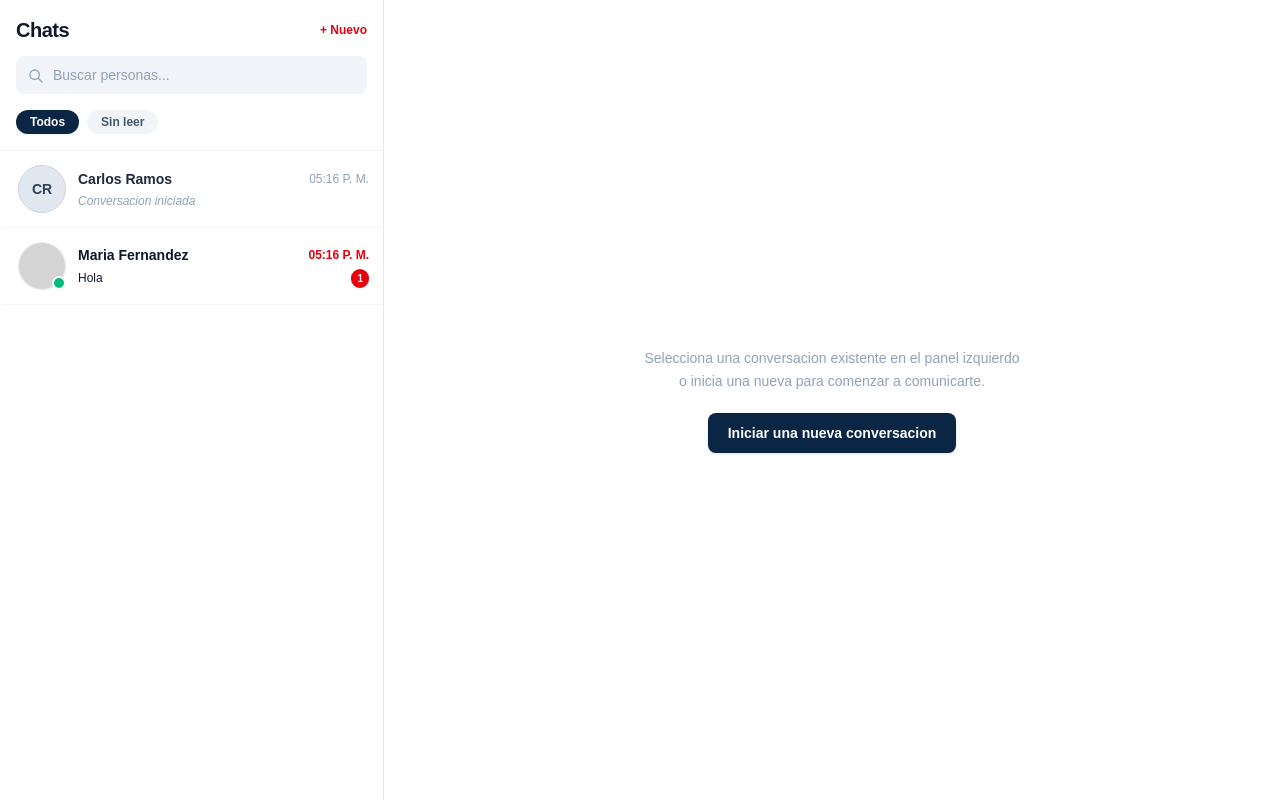
it: ChatView & ChatPage › debe conmutar de unread a all y abrir modal al pulsar nueva conversacion
Expected: the heading "Maria Fernandez" is shown, [78,244,188,264]
Click the button "Sin leer".
click(123, 122)  # box [87,110,158,134]
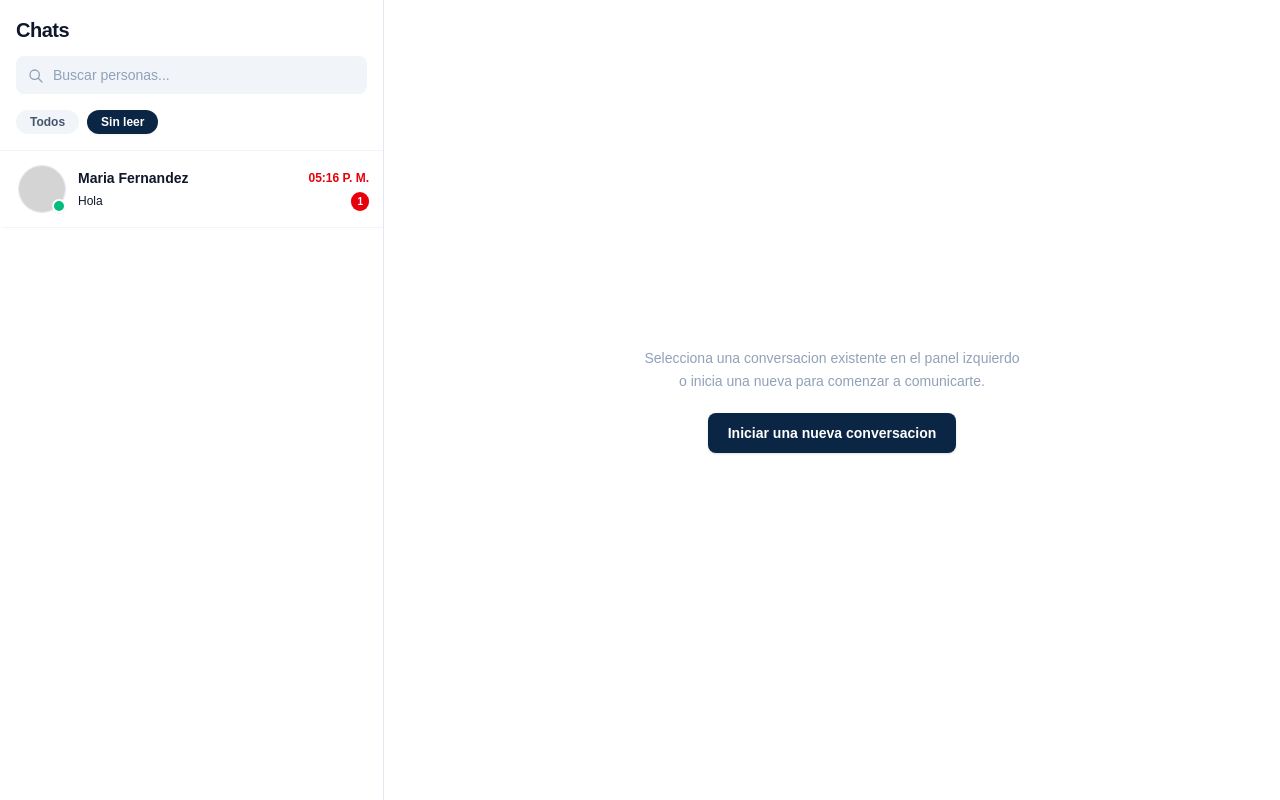
Click the button "Iniciar una nueva conversacion".
click(832, 433)  # box [708,413,956,453]
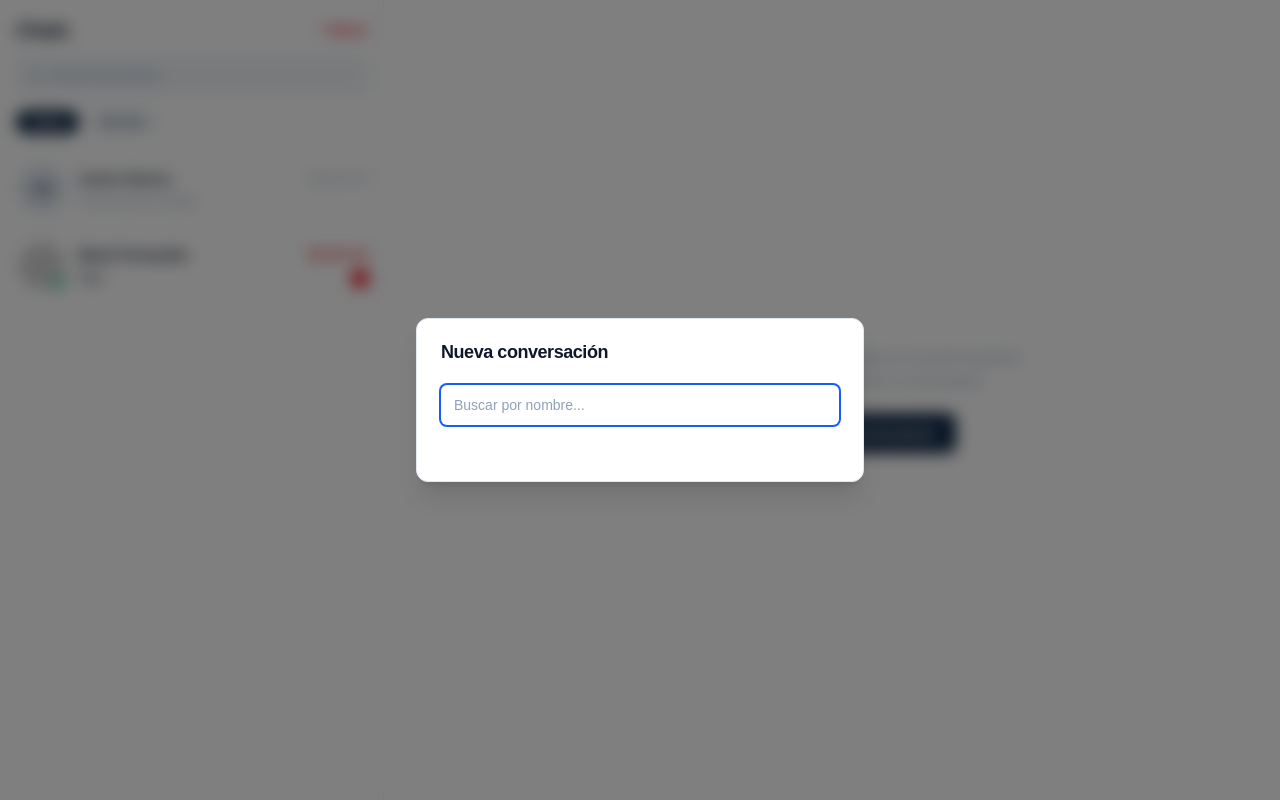
Expected: the heading "Nueva conversación" is shown, [441,342,608,362]
